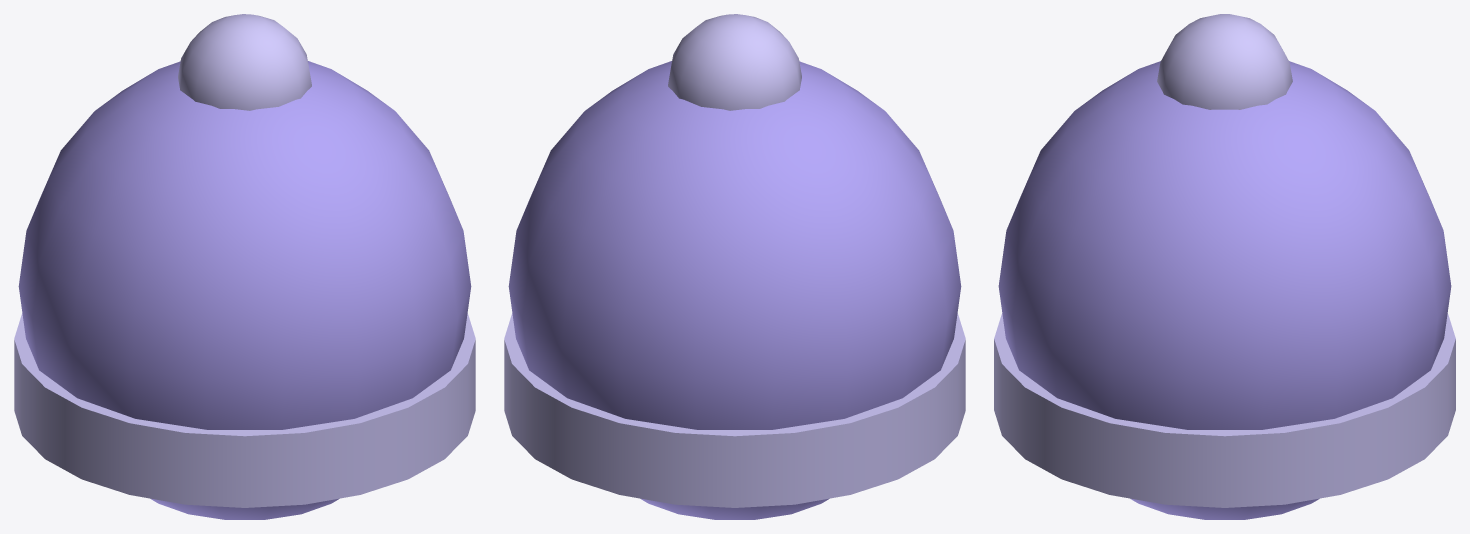
The model's file is VM-CAB-SH41264869.glb.
3 views of the same model, side by side, from view 1: azimuth 30°, elevation 25°; view 2: azimuth 150°, elevation 25°; view 3: azimuth 270°, elevation 25° (orthographic).
Visible parts, largest first — view 1: Gorra Snapback Jurassic Park Camo; view 2: Gorra Snapback Jurassic Park Camo; view 3: Gorra Snapback Jurassic Park Camo.
Part boxes in pixels (x1=…): Gorra Snapback Jurassic Park Camo: x1=14, y1=14, x2=475, y2=519; Gorra Snapback Jurassic Park Camo: x1=504, y1=14, x2=965, y2=519; Gorra Snapback Jurassic Park Camo: x1=994, y1=14, x2=1455, y2=519.
Size of the model in its own units: 0.2292 by 0.264 by 0.2292.
